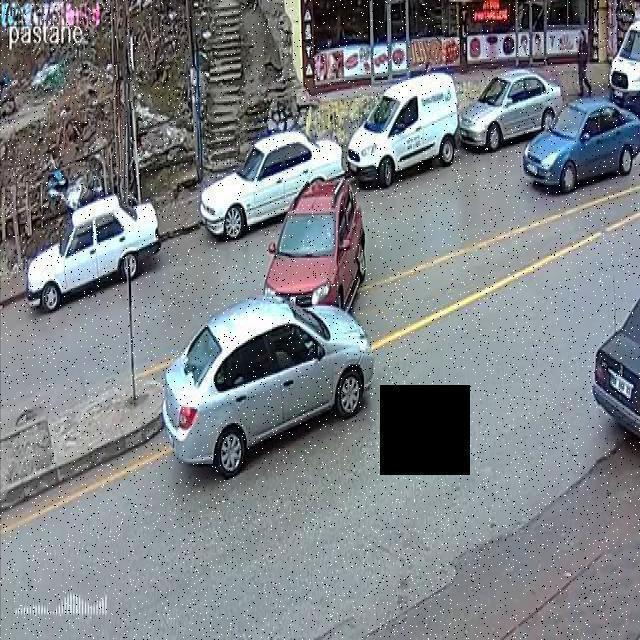accident: (150, 172, 377, 483)
